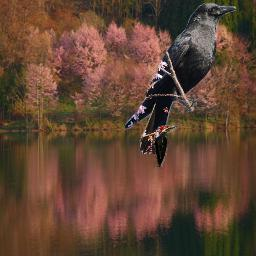Crow: (124, 2, 236, 154)
Woodpecker: (152, 125, 179, 167)
